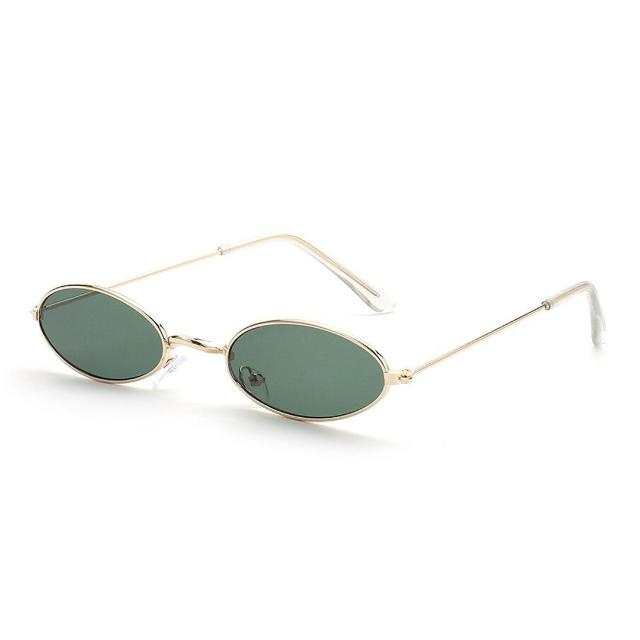Sunglasses: (25, 219, 612, 441)
